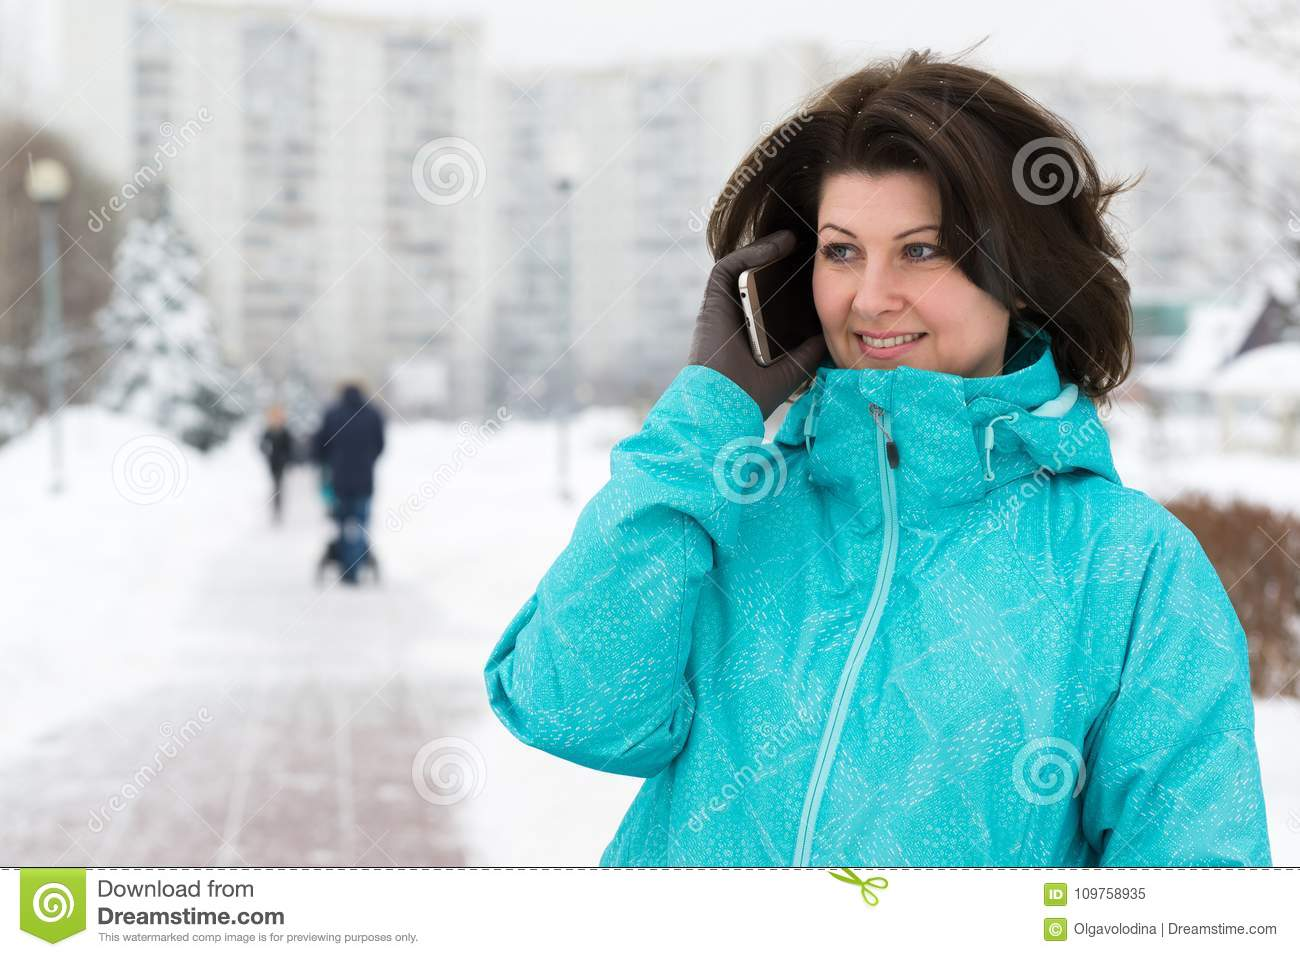phone: (737, 235, 821, 368)
talk: (667, 212, 967, 414)
